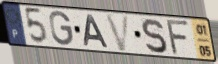5: (23, 6, 50, 47)
A: (83, 14, 110, 49)
F: (166, 19, 192, 56)
G: (48, 10, 75, 47)
S: (140, 17, 169, 55)
V: (104, 13, 132, 53)
